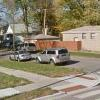Car: (8, 46, 74, 72)
